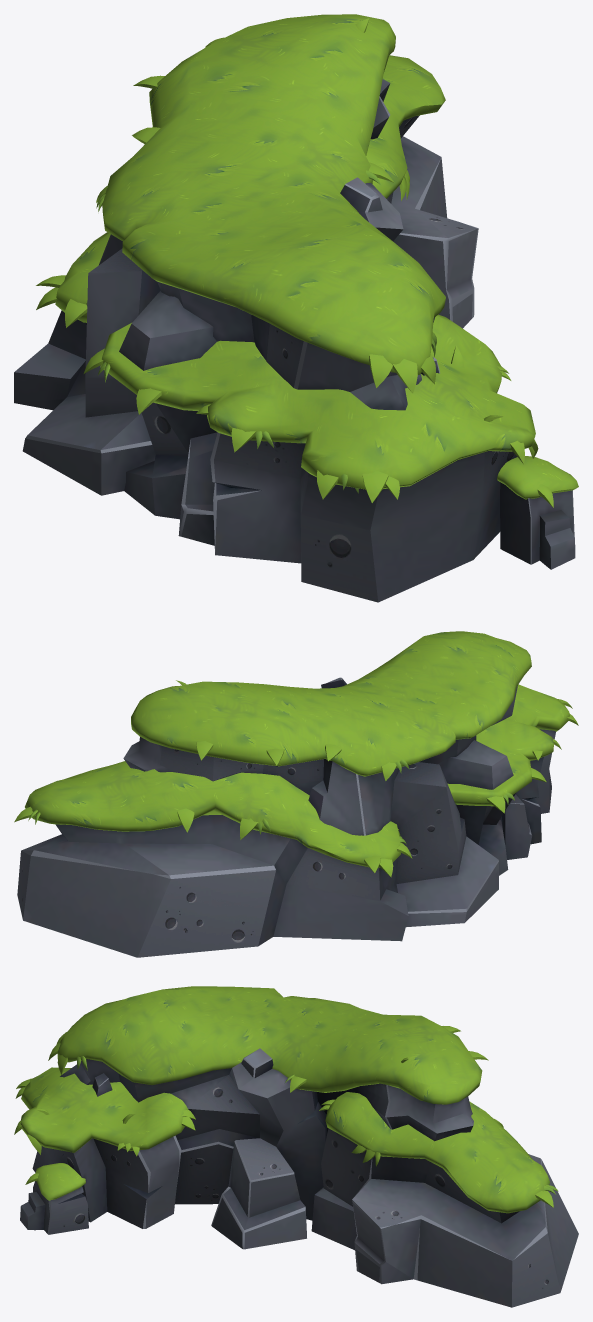
File: ForestIglooLotRockFormation.fbx
3 renders of one model, top to bottom at view 1: azimuth 30°, elevation 25°; view 2: azimuth 150°, elevation 25°; view 3: azimuth 270°, elevation 25°, orthographic. The views are drawn at different scales.
Visible parts, largest first — view 1: ForestIglooLotRockFormationGrass, ForestIglooLotRockFormationRock; view 2: ForestIglooLotRockFormationRock, ForestIglooLotRockFormationGrass; view 3: ForestIglooLotRockFormationRock, ForestIglooLotRockFormationGrass.
Part boxes in pixels (box(x1,y1,x2,y2)): ForestIglooLotRockFormationGrass: box(36, 14, 578, 507); ForestIglooLotRockFormationRock: box(14, 79, 575, 602); ForestIglooLotRockFormationRock: box(17, 677, 555, 957); ForestIglooLotRockFormationGrass: box(14, 631, 578, 877); ForestIglooLotRockFormationRock: box(20, 1048, 578, 1307); ForestIglooLotRockFormationGrass: box(14, 986, 558, 1213).
Bounding box in the file's own units: 1292 × 679 × 1756.
